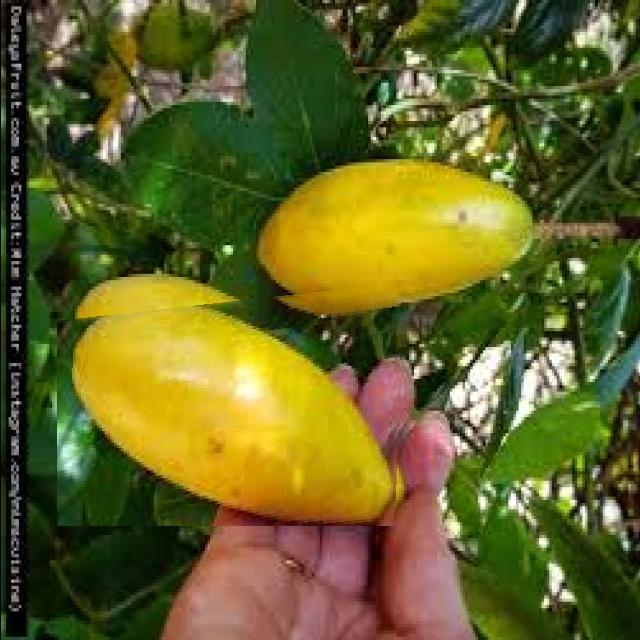Organic: (56, 282, 406, 526), (260, 156, 540, 310)
